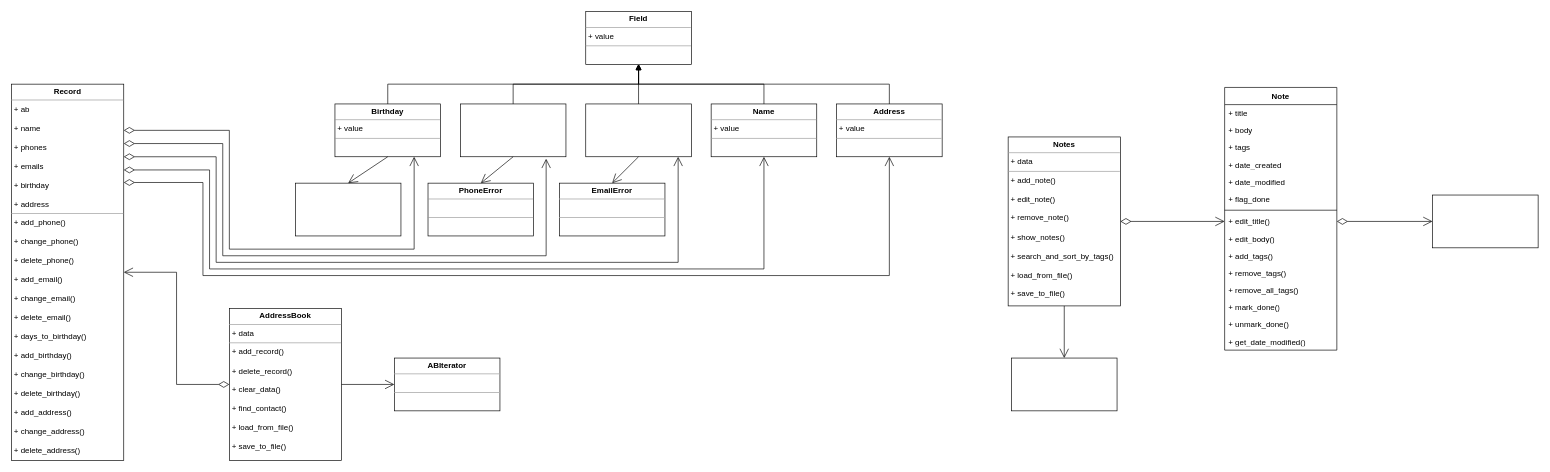
Some shapes in this 1550 by 472 pixel diagram are drawn without their labels. The centre of each missing label's shape, as x and y in pixels:
BirthdayError: the point at 348,209
Email + value: the point at 638,130
IDError: the point at 1064,384
Phone + value: the point at 513,130
Tag + tag: the point at 1485,221
